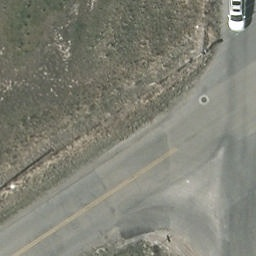car: (228, 0, 248, 31)
